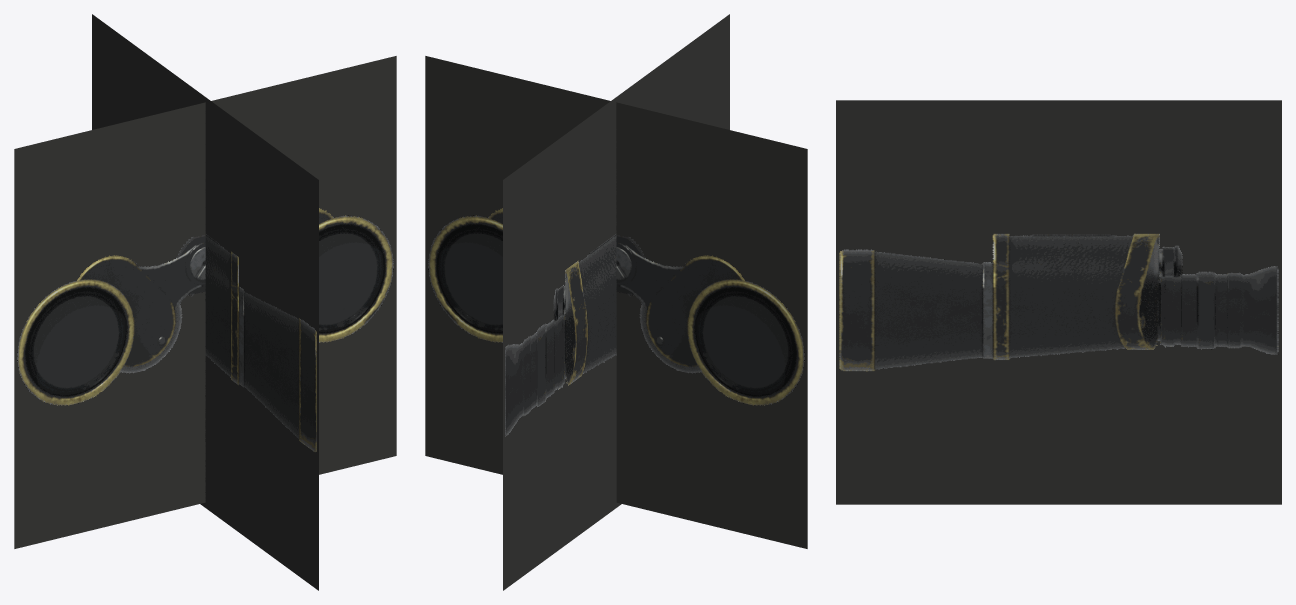
The model's file is vintage_binocular_v3_pbr_bb.glb.
3 renders of one model, left to right at view 1: azimuth 30°, elevation 25°; view 2: azimuth 150°, elevation 25°; view 3: azimuth 270°, elevation 25°, orthographic.
Visible parts, largest first — view 1: vintage_binocular_v3_pbr_bb; view 2: vintage_binocular_v3_pbr_bb; view 3: vintage_binocular_v3_pbr_bb.
Part boxes in pixels (<box>): vintage_binocular_v3_pbr_bb: <box>14,14,396,590</box>; vintage_binocular_v3_pbr_bb: <box>425,14,807,590</box>; vintage_binocular_v3_pbr_bb: <box>836,100,1281,504</box>.
Bounding box in the file's own units: 0.1979 × 0.2032 × 0.2032.
Materials: 1 (1 with a texture image).
